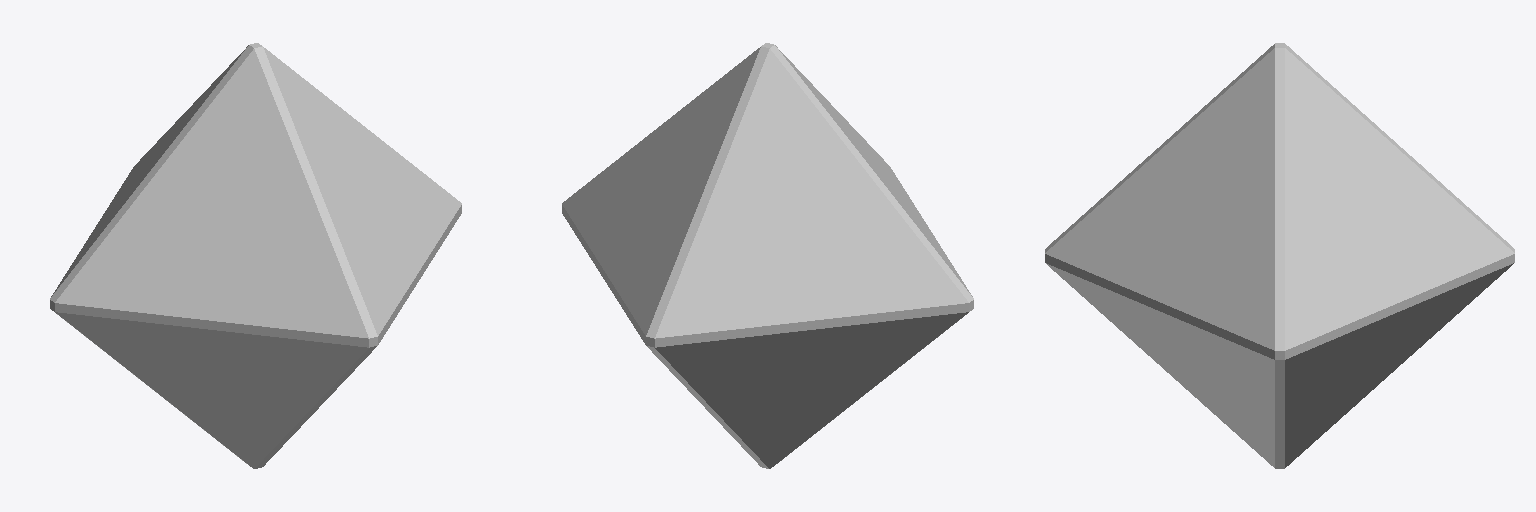
Rendered from 4-point-cut.obj.
3 renders of one model, left to right at view 1: azimuth 30°, elevation 25°; view 2: azimuth 150°, elevation 25°; view 3: azimuth 270°, elevation 25°, orthographic.
Visible parts, largest first — view 1: gem_Cylinder; view 2: gem_Cylinder; view 3: gem_Cylinder.
Part boxes in pixels (bbox=[...]): gem_Cylinder: bbox=[50, 43, 461, 468]; gem_Cylinder: bbox=[562, 43, 973, 468]; gem_Cylinder: bbox=[1045, 43, 1514, 468].
Size of the model in its own units: 19.18 by 18.92 by 19.18.